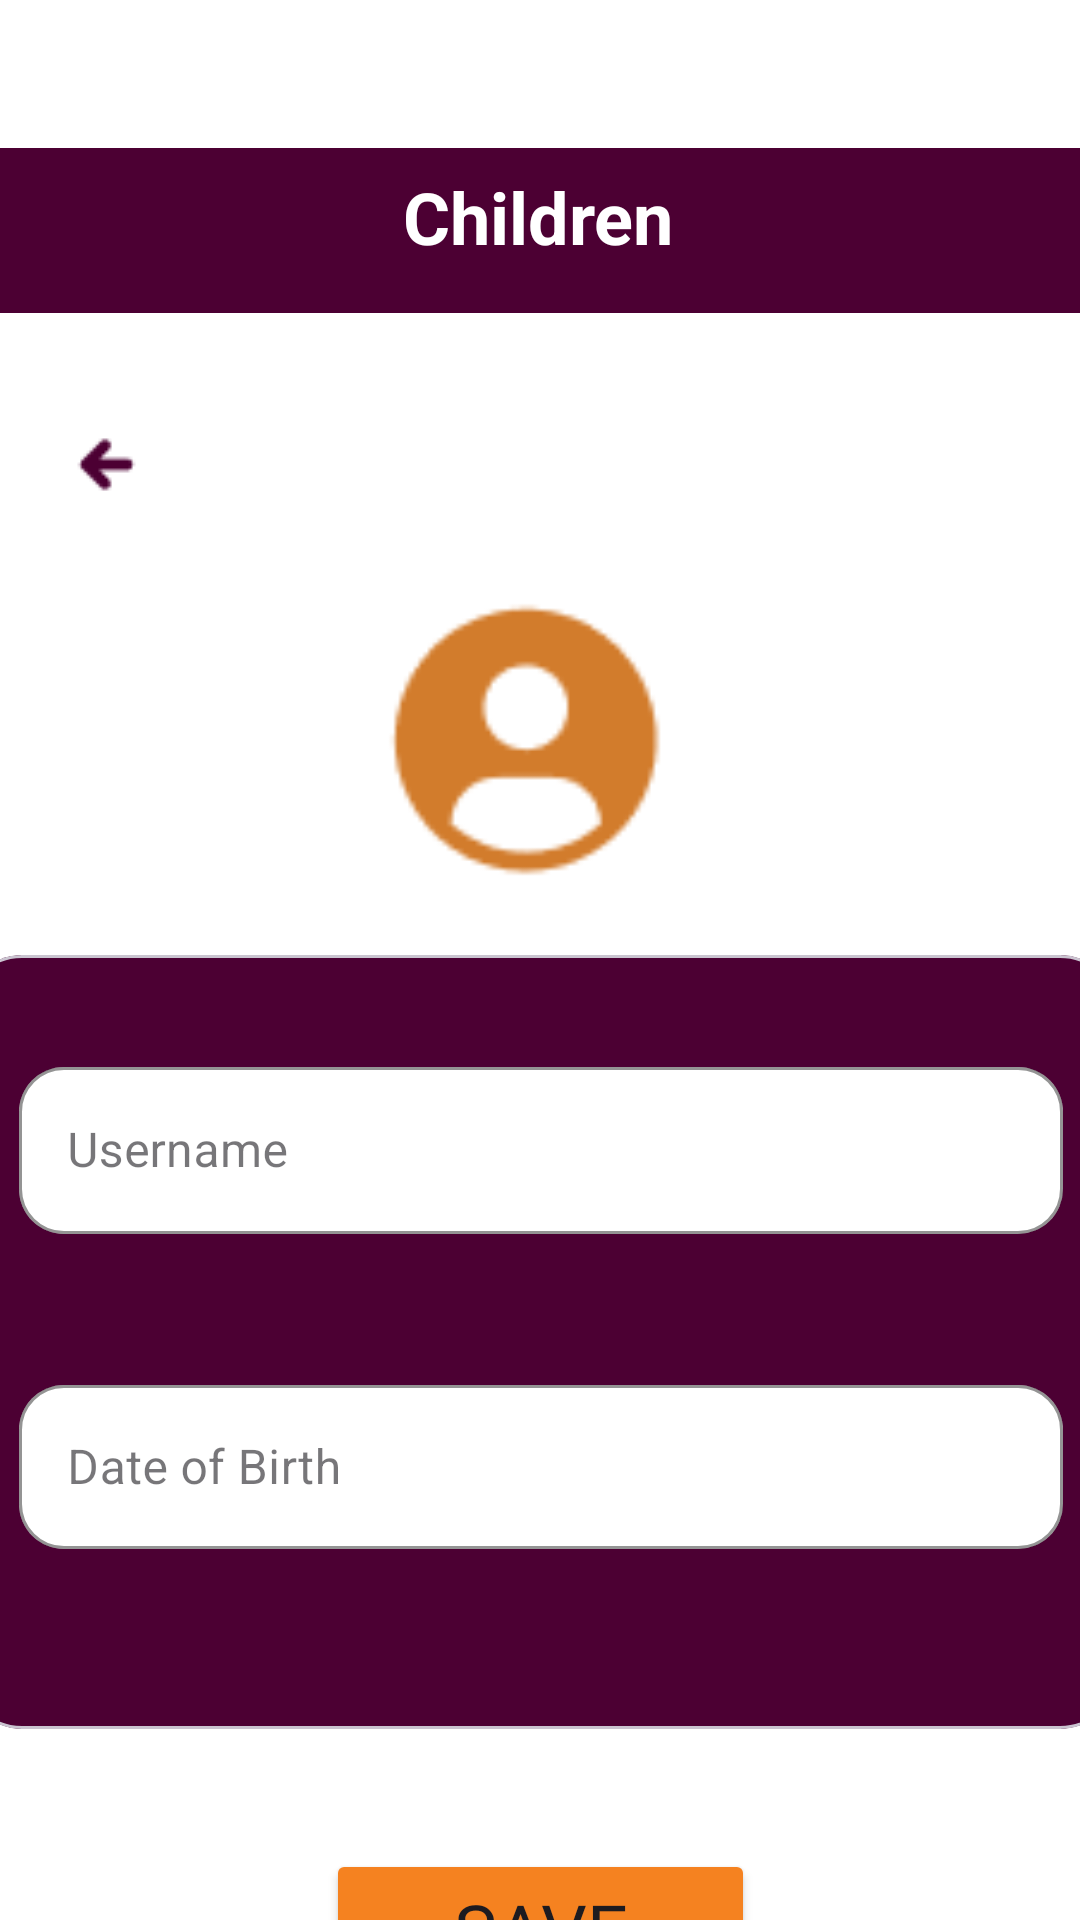

Icon click points for this 1080×1920 phone screenshot, format (x,y):
backarrow: (106,464)
profile: (526,740)
